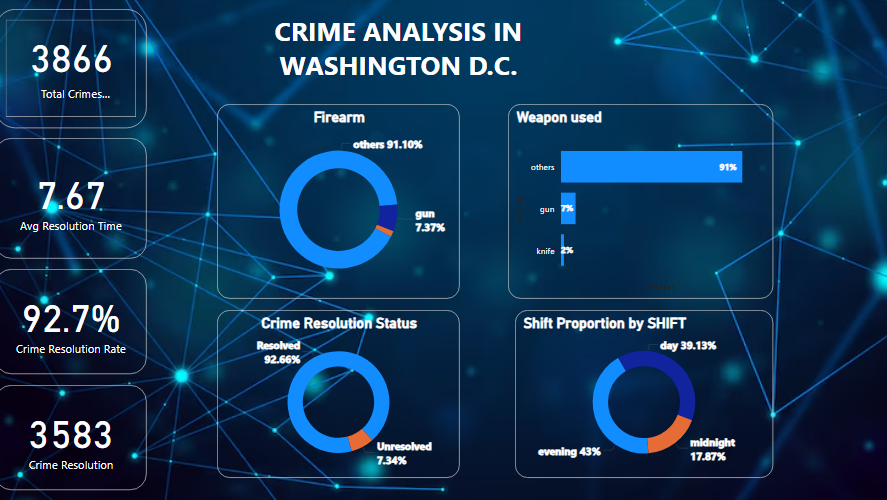

Layout of this report page (visuals, bound fields, positions):
{"tool":"powerbi","page":{"name":"Page 1","canvas":[1280,720],"ordinal":0},"visuals":[{"type":"cardVisual","fields":{"Data":["Onyx Data -DataDNA Dataset Chal.Total Crimes Reported"]},"box":[0,17,215.4,168.7],"z":0},{"type":"donutChart","fields":{"Category":["Onyx Data -DataDNA Dataset Chal.SHIFT"],"Y":["Onyx Data -DataDNA Dataset Chal.Shift Proportion"]},"box":[737,443.6,365.7,238.1],"z":1000},{"type":"clusteredBarChart","title":"Weapon used","fields":{"Category":["Onyx Data -DataDNA Dataset Chal.METHOD"],"Y":["Onyx Data -DataDNA Dataset Chal.Weapon"]},"box":[727.1,151.7,375.6,276.4],"z":2000},{"type":"donutChart","title":"Firearm","fields":{"Category":["Onyx Data -DataDNA Dataset Chal.METHOD"],"Y":["CountNonNull(Onyx Data -DataDNA Dataset Chal.METHOD)"]},"box":[314.6,151.7,344.4,276.4],"z":3000},{"type":"card","fields":{"Values":["Onyx Data -DataDNA Dataset Chal.Crime Resolution Rate"]},"box":[0,385.5,215.4,148.8],"z":4000},{"type":"card","fields":{"Values":["Onyx Data -DataDNA Dataset Chal.Avg Resolution Time"]},"box":[0,199.8,215.4,171.5],"z":5000},{"type":"card","fields":{"Values":["_Measure Table.Crime Resolution"]},"box":[0,549.9,215.4,148.8],"z":6000},{"type":"textbox","box":[314.4,17.1,514.4,169.2],"z":7000},{"type":"donutChart","title":"Crime Resolution Status","fields":{"Category":["Onyx Data -DataDNA Dataset Chal.Crime Resolution Status"],"Y":["CountNonNull(Onyx Data -DataDNA Dataset Chal.Crime Resolution Status)"]},"box":[314.6,443.6,344.4,238.1],"z":8000}]}

Visuals, with their boxes in screenshot pixels (x1, y1, x2, y2), scaled from the page's 1280x720 canvas onto the 887x500 screenshot:
cardVisual - Onyx Data -DataDNA Dataset Chal.Total Crimes Reported: (0,12,149,129)
donutChart - Onyx Data -DataDNA Dataset Chal.SHIFT x Onyx Data -DataDNA Dataset Chal.Shift Proportion: (511,308,764,473)
"Weapon used" clusteredBarChart: (504,105,764,297)
"Firearm" donutChart: (218,105,457,297)
card - Onyx Data -DataDNA Dataset Chal.Crime Resolution Rate: (0,268,149,371)
card - Onyx Data -DataDNA Dataset Chal.Avg Resolution Time: (0,139,149,258)
card - _Measure Table.Crime Resolution: (0,382,149,485)
textbox: (218,12,574,129)
"Crime Resolution Status" donutChart: (218,308,457,473)
